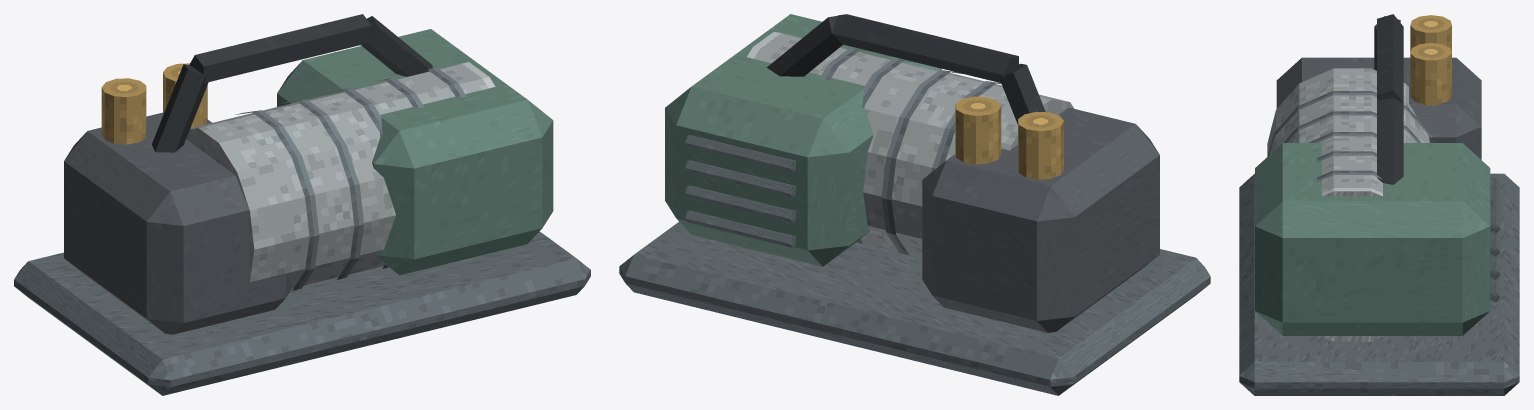
Rendered from recovery_pump.glb.
3 views of the same model, side by side, from view 1: azimuth 30°, elevation 25°; view 2: azimuth 150°, elevation 25°; view 3: azimuth 270°, elevation 25° (orthographic). The views are drawn at different scales.
Visible parts, largest first — view 1: block_pump skid base, block_ventilated recovery case, block_pump chamber, block_electric pump drive, block_carrying handle 1, block_cooling rib (×3), block_external threaded port (×2), block_carrying handle 0, block_carrying handle 2; view 2: block_pump skid base, block_pump chamber, block_ventilated recovery case, block_electric pump drive, block_external threaded port (×2), block_recovery cooling grille 0 (×4), block_carrying handle 1, block_cooling rib (×3), block_carrying handle 2, block_carrying handle 0; view 3: block_ventilated recovery case, block_pump skid base, block_electric pump drive, block_pump chamber, block_external threaded port (×2), block_carrying handle 2, block_carrying handle 1, block_cooling rib (×5), block_recovery cooling grille 0 (×4).
Part boxes in pixels (x1,y1,x2,y2): block_pump skid base: (14,231,590,395); block_ventilated recovery case: (277,29,553,275); block_pump chamber: (64,112,293,334); block_electric pump drive: (186,62,495,288); block_carrying handle 1: (189,14,371,83); block_cooling rib (×3): (235,88,388,290); block_external threaded port (×2): (101,63,207,144); block_carrying handle 0: (152,64,208,152); block_carrying handle 2: (361,16,432,76); block_pump skid base: (619,222,1210,395); block_pump chamber: (922,107,1159,332); block_ventilated recovery case: (665,14,941,266); block_electric pump drive: (747,32,1074,255); block_external threaded port (×2): (955,96,1063,179); block_recovery cooling grille 0 (×4): (685,135,795,247); block_carrying handle 1: (832,14,1018,82); block_cooling rib (×3): (856,58,1001,254); block_carrying handle 2: (766,16,842,76); block_carrying handle 0: (998,63,1045,124); block_ventilated recovery case: (1255,143,1490,335); block_pump skid base: (1239,173,1519,395); block_electric pump drive: (1267,68,1430,341); block_pump chamber: (1276,57,1481,159); block_external threaded port (×2): (1410,15,1451,105); block_carrying handle 2: (1377,98,1403,184); block_carrying handle 1: (1377,14,1403,102); block_cooling rib (×5): (1268,91,1432,181); block_recovery cooling grille 0 (×4): (1490,177,1500,302).
Size of the model in its own units: 0.382 by 0.2147 by 0.2251.
Materials: 1 (1 with a texture image).
